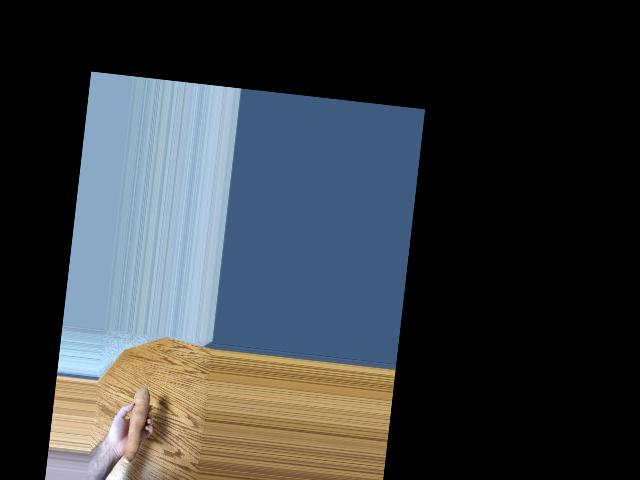sweet_potato: (125, 383, 157, 462)
